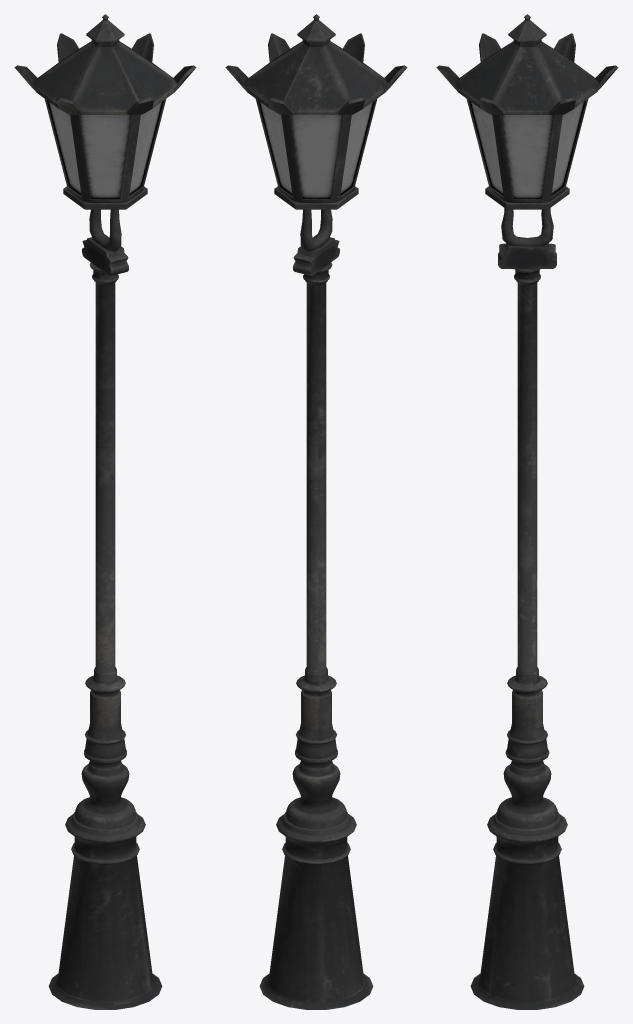
Rendered from vintage_street_lamp_1d0bd5cb.glb.
3 views of the same model, side by side, from view 1: azimuth 30°, elevation 25°; view 2: azimuth 150°, elevation 25°; view 3: azimuth 270°, elevation 25° (orthographic).
Visible parts, largest first — view 1: vintage_street_lamp_1d0bd5cb; view 2: vintage_street_lamp_1d0bd5cb; view 3: vintage_street_lamp_1d0bd5cb.
Part boxes in pixels (left/top/right/bottom): vintage_street_lamp_1d0bd5cb: left=14, top=14, right=196, bottom=1009; vintage_street_lamp_1d0bd5cb: left=225, top=14, right=407, bottom=1009; vintage_street_lamp_1d0bd5cb: left=436, top=14, right=618, bottom=1009.
Bounding box in the file's own units: 0.2578 × 1.75 × 0.2977.
1 material, 1 textured.
